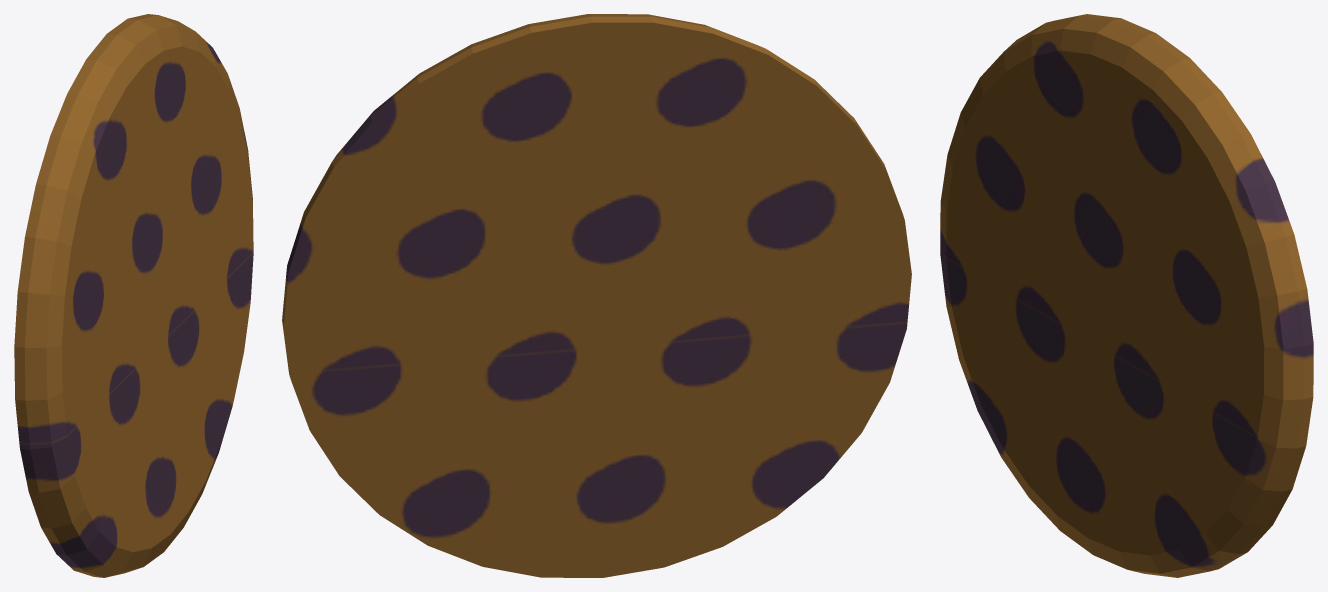
The model's file is scene4_cookie.glb.
The picture shows the model from 3 angles, left to right: view 1: azimuth 30°, elevation 25°; view 2: azimuth 150°, elevation 25°; view 3: azimuth 270°, elevation 25°; orthographic projection. The views are drawn at different scales.
Visible parts, largest first — view 1: Cookie.002; view 2: Cookie.002; view 3: Cookie.002.
Part boxes in pixels (box(x1,y1,x2,y2)): Cookie.002: box(14, 14, 253, 577); Cookie.002: box(282, 14, 911, 577); Cookie.002: box(940, 14, 1313, 577).
Bounding box in the file's own units: 0.1664 × 0.2052 × 0.1338.
Materials: 1 (1 with a texture image).
